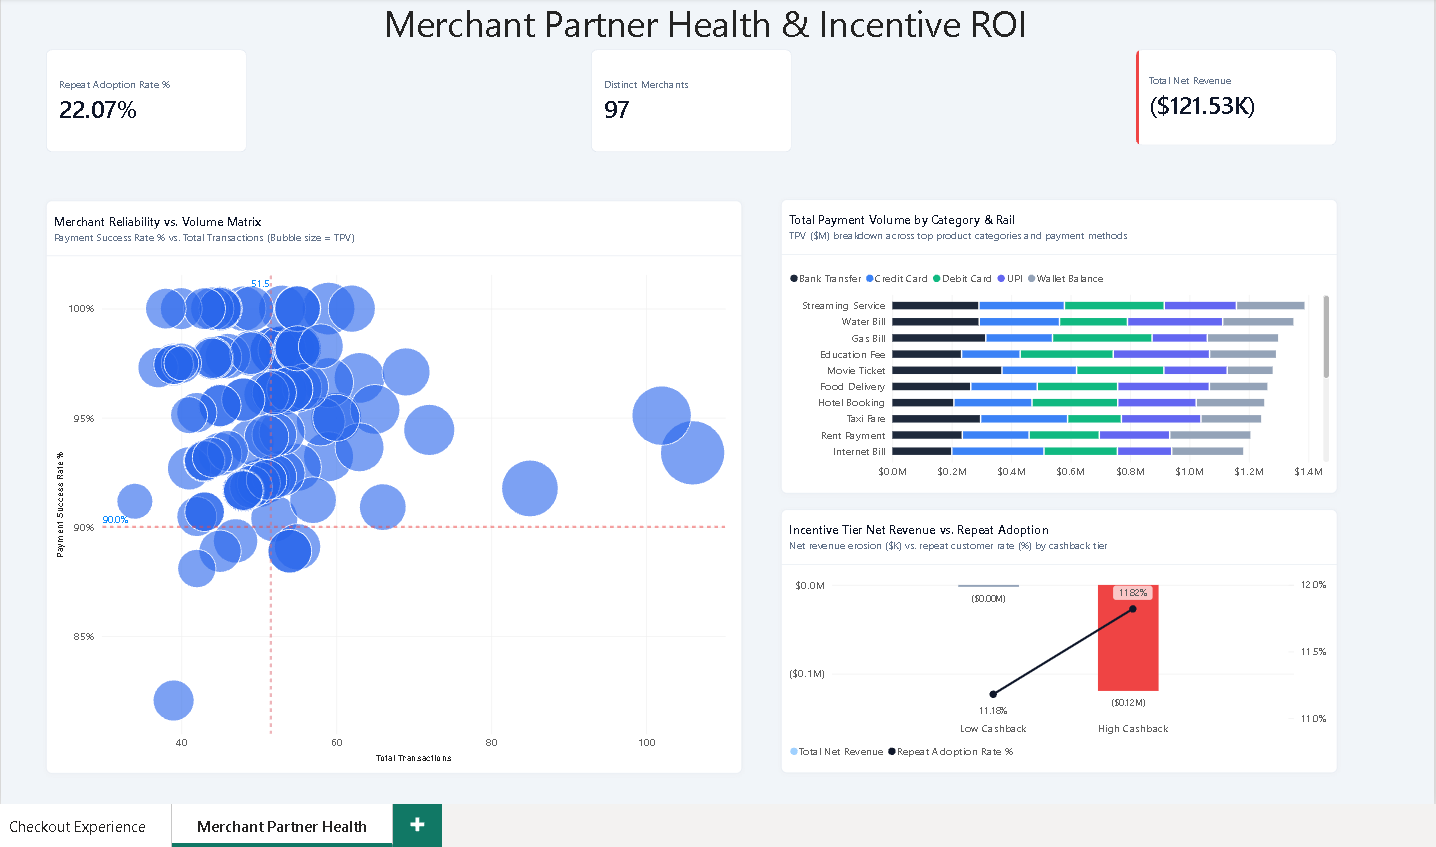

Layout of this report page (visuals, bound fields, positions):
{"tool":"powerbi","page":{"name":"Merchant Partner Health","canvas":[1920,1080],"ordinal":1},"visuals":[{"type":"textbox","box":[512.5,0,897.5,77.5],"z":0},{"type":"cardVisual","fields":{"Data":["_Measures.Total Net Revenue"]},"box":[1520.9,68.3,269.7,129.4],"z":1},{"type":"cardVisual","fields":{"Data":["_Measures.Repeat Adoption Rate %"]},"box":[61.1,68.3,269.7,138.4],"z":2},{"type":"cardVisual","fields":{"Data":["_Measures.Distinct Merchants"]},"box":[791,68.3,269.7,138.4],"z":3},{"type":"scatterChart","title":"Merchant Reliability vs. Volume Matrix","fields":{"Category":["cleaned_wallet_transactions.merchant_name"],"Size":["_Measures.Total Payment Volume (TPV)"],"X":["_Measures.Total Transactions"],"Y":["_Measures.Payment Success Rate %"]},"box":[60.6,270.5,932.7,768.3],"z":4},{"type":"barChart","title":"Total Payment Volume by Category & Rail","fields":{"Category":["cleaned_wallet_transactions.product_category"],"Series":["cleaned_wallet_transactions.payment_method"],"Y":["_Measures.Total Payment Volume (TPV)"]},"box":[1044.4,269.8,745.5,394.1],"z":5},{"type":"lineClusteredColumnComboChart","title":"Incentive Tier Net Revenue vs. Repeat Adoption","fields":{"Category":["cleaned_wallet_transactions.Incentive Group"],"Y":["_Measures.Total Net Revenue"],"Y2":["_Measures.Repeat Adoption Rate %"]},"box":[1044.4,685.3,745.5,353.3],"z":6}]}

Visuals, with their boxes on the page's 1920x1080 design canvas (x1, y1, x2, y2). These are canvas units, not pixel positions in the 1436x847 screenshot, which may show the page scaled, cropped or inside an application window:
textbox: pyautogui.locateOnScreen(512, 0, 1410, 78)
cardVisual - _Measures.Total Net Revenue: pyautogui.locateOnScreen(1521, 68, 1791, 198)
cardVisual - _Measures.Repeat Adoption Rate %: pyautogui.locateOnScreen(61, 68, 331, 207)
cardVisual - _Measures.Distinct Merchants: pyautogui.locateOnScreen(791, 68, 1061, 207)
"Merchant Reliability vs. Volume Matrix" scatterChart: pyautogui.locateOnScreen(61, 270, 993, 1039)
"Total Payment Volume by Category & Rail" barChart: pyautogui.locateOnScreen(1044, 270, 1790, 664)
"Incentive Tier Net Revenue vs. Repeat Adoption" lineClusteredColumnComboChart: pyautogui.locateOnScreen(1044, 685, 1790, 1039)
